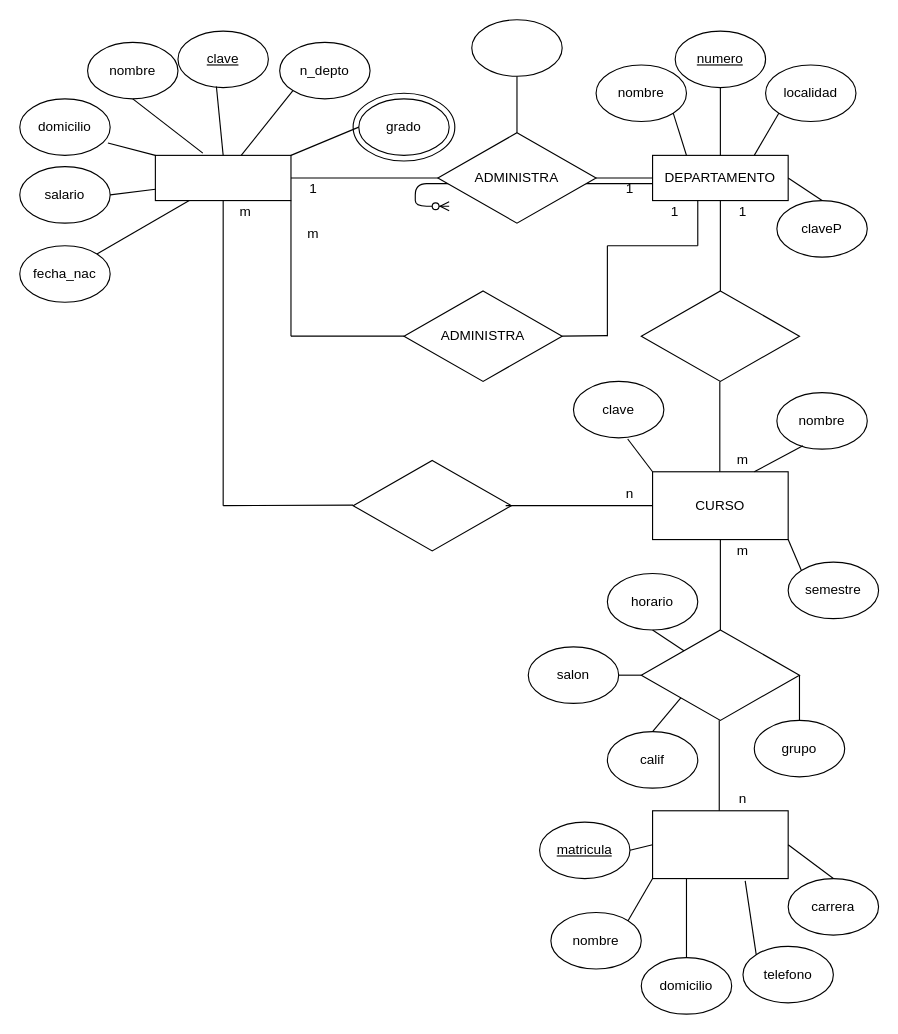
Some shapes in this 898 by 1034 pixel diagram are drawn without their labels. Here are the shapes that lost their labels. From the top down, the centre of each, then its label:
the point at 516,47: fecha_ini
the point at 222,177: PROFESOR
the point at 719,335: OFRECE
the point at 431,505: IMPARTE
the point at 719,674: CURSA
the point at 719,844: ALUMNO
